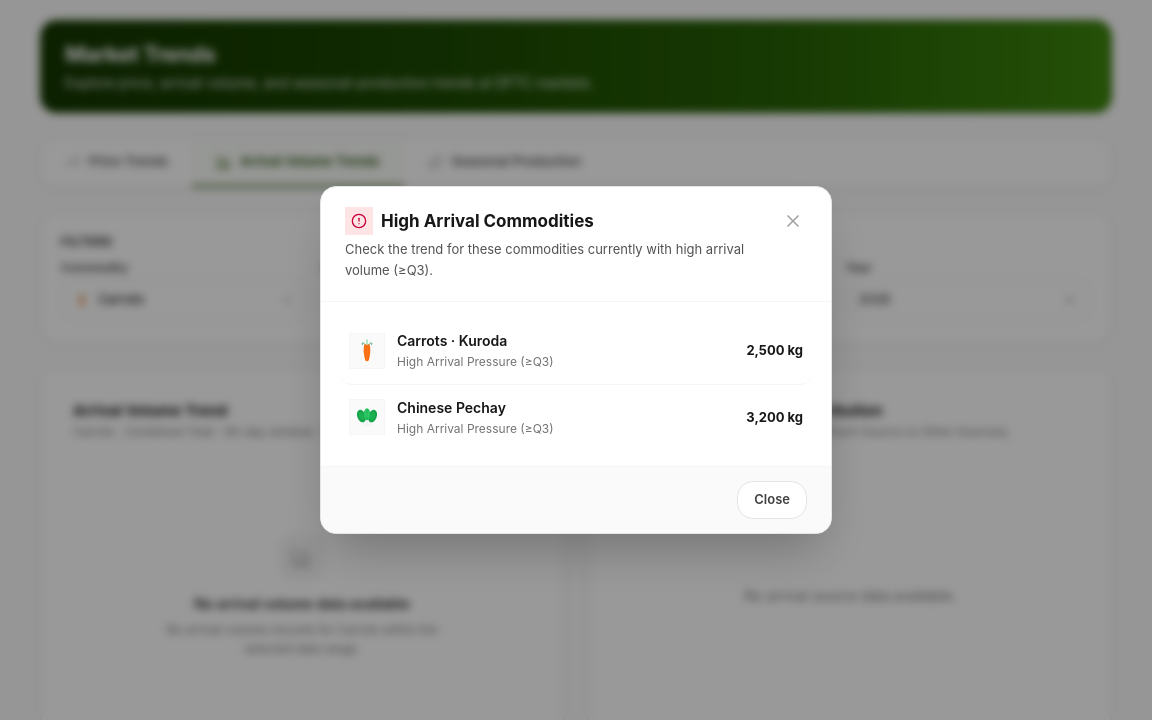
Scenario: DFTC Trends Alert Commodities Modal › displays High Arrival Commodities modal when alert=oversupply in URL
This screenshot has width=1152, height=720.
Expected: the heading "High Arrival Commodities" is shown, 381,210 -> 594,232
Expected: the text "Check the trend for these commodities currently with high arrival volume" is shown, 345,241 -> 744,278
Clicking Close dismisses modal
Click the button named "close": click(793, 221) 779,207 -> 807,235
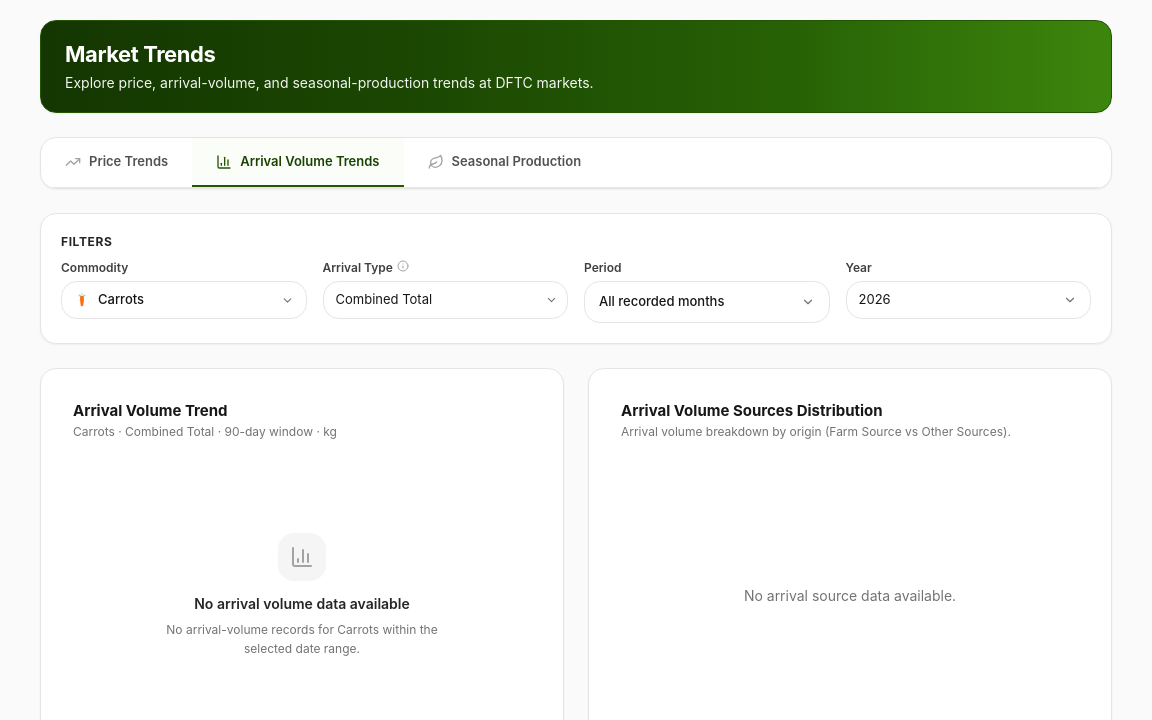
Now the dialog is gone
